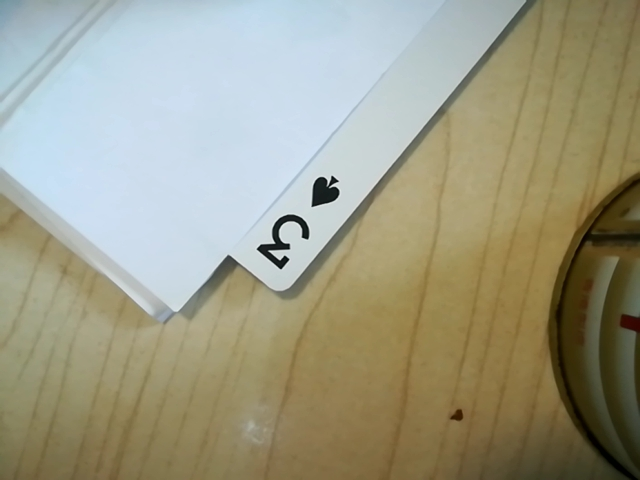ht 3: (242, 168, 350, 281)
